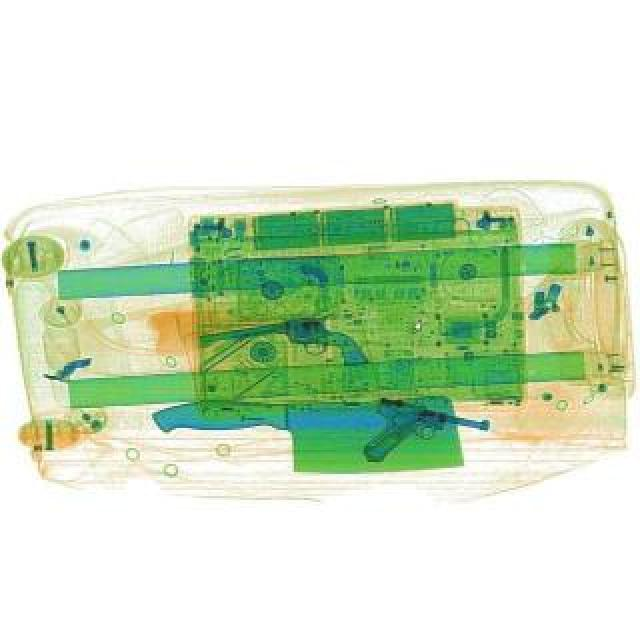gun: (202, 308, 372, 390), (362, 392, 492, 484)
knife: (154, 390, 466, 482)
